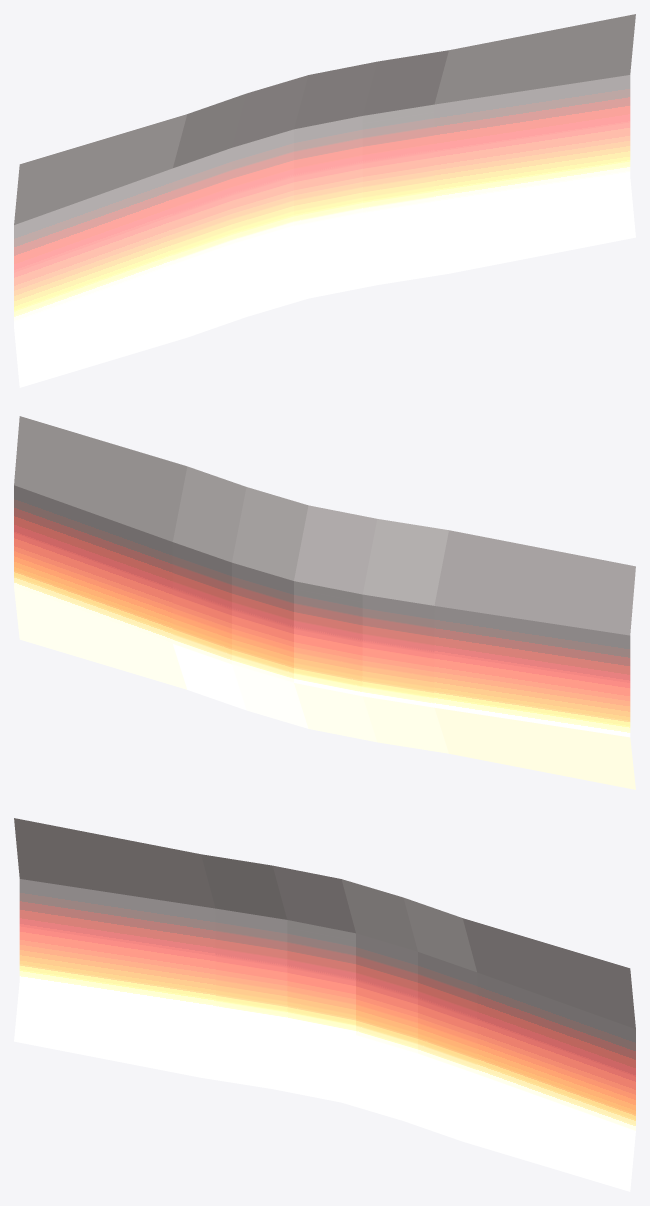
The model's file is MetaScreen_skytest1.glb.
3 views of the same model, one above another, from view 1: azimuth 30°, elevation 25°; view 2: azimuth 150°, elevation 25°; view 3: azimuth 330°, elevation 25° (orthographic).
Parts seen in each view (by area): view 1: Plane.001; view 2: Plane.001; view 3: Plane.001.
Boxes of the visible parts, x1,y1,x2,y2 form: Plane.001: (14,14,635,387); Plane.001: (14,416,635,789); Plane.001: (14,818,635,1191).
Size of the model in its own units: 279 by 96.57 by 26.57.
